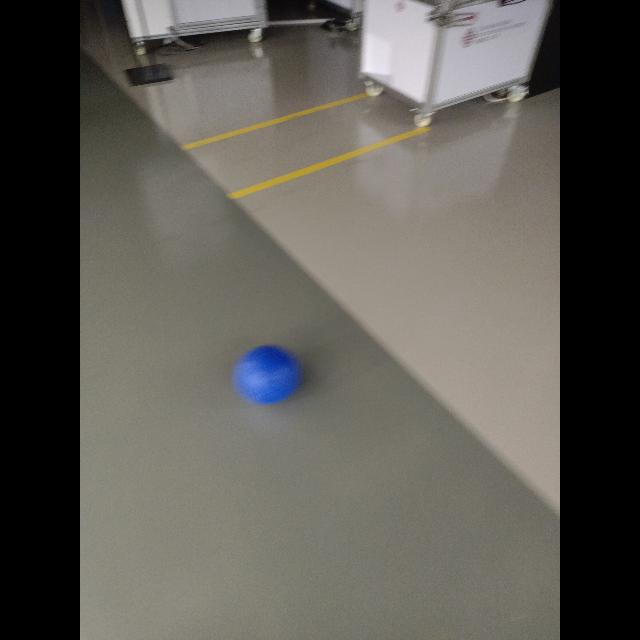B: (236, 348, 300, 402)
